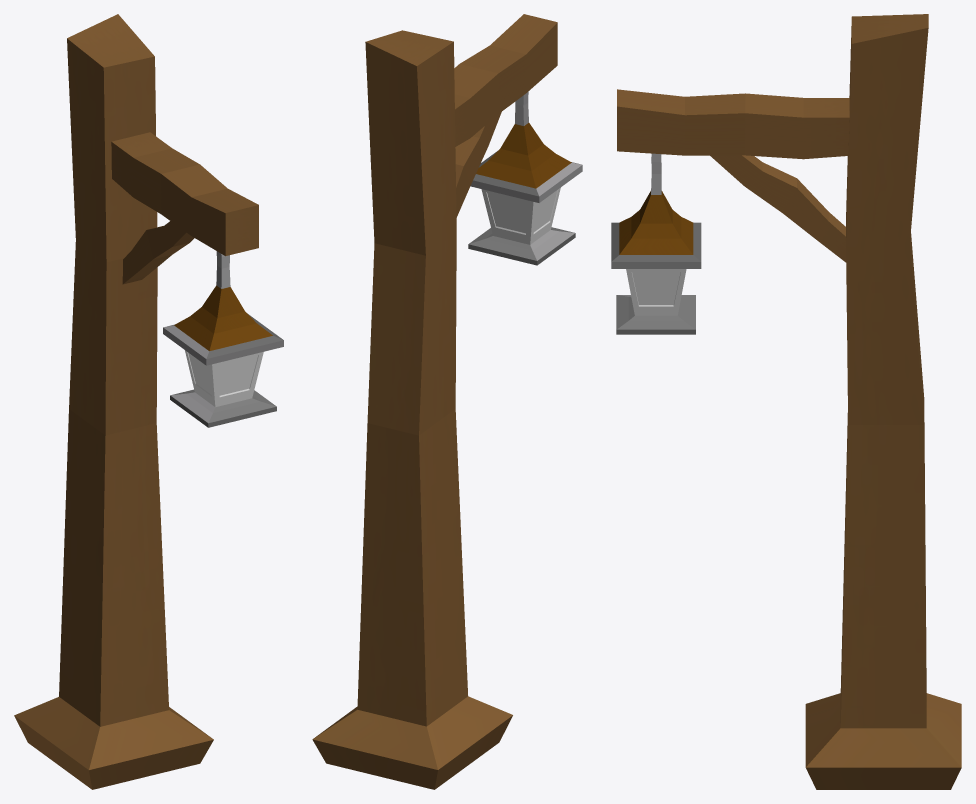
File: luz.fbx
The picture shows the model from 3 angles, left to right: view 1: azimuth 30°, elevation 25°; view 2: azimuth 150°, elevation 25°; view 3: azimuth 270°, elevation 25°; orthographic projection. The views are drawn at different scales.
Parts seen in each view (by area): view 1: Cube.005; view 2: Cube.005; view 3: Cube.005.
Boxes of the visible parts, x1,y1,x2,y2 form: Cube.005: (14,14,283,789); Cube.005: (312,14,582,789); Cube.005: (611,14,961,789).
Bounding box in the file's own units: 68.68 × 376 × 160.
Materials: 3 (2 with a texture image).
